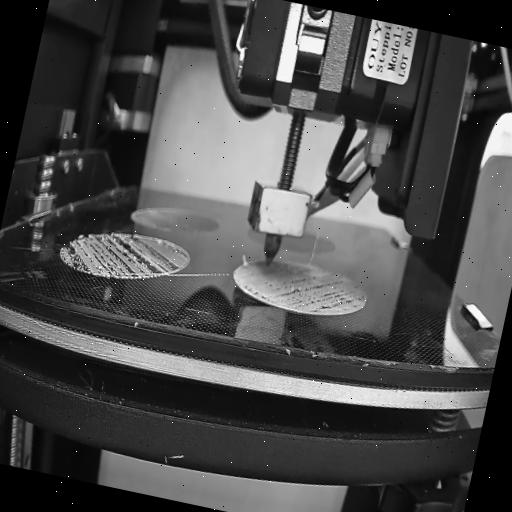under_extrusion: (60, 216, 190, 294), (267, 272, 368, 320), (233, 269, 269, 301)
